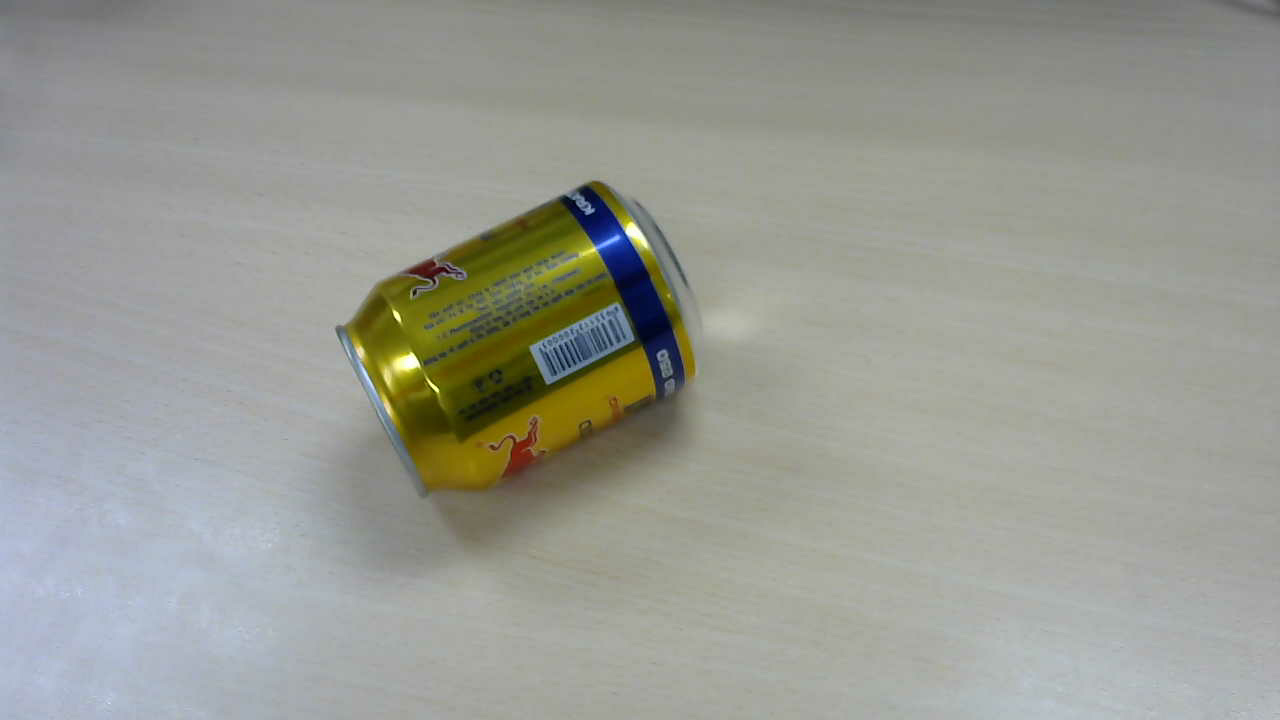Red_Bull: (337, 187, 706, 506)
